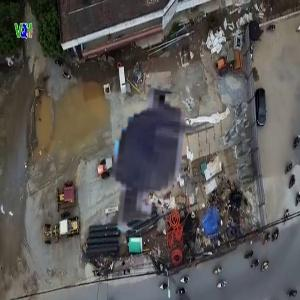drone: (43, 44, 261, 262)
